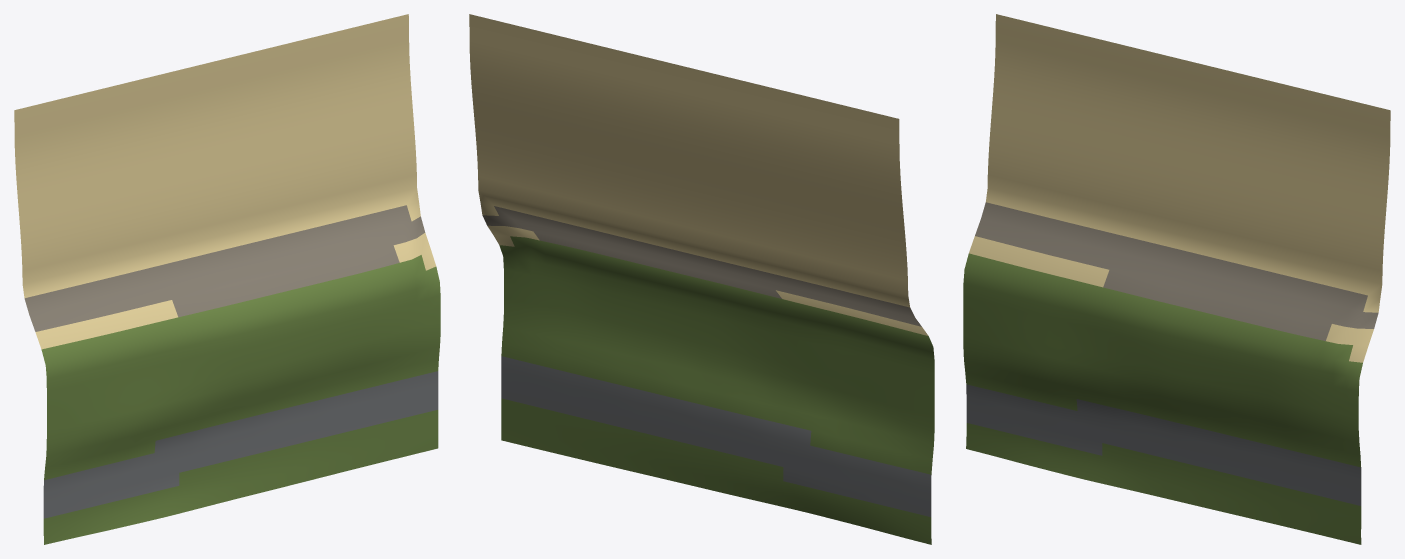
The model's file is island_terrain_23_10.obj.
The picture shows the model from 3 angles, left to right: view 1: azimuth 30°, elevation 25°; view 2: azimuth 150°, elevation 25°; view 3: azimuth 330°, elevation 25°; orthographic projection. The views are drawn at different scales.
Visible parts, largest first — view 1: island_terrain_23_10; view 2: island_terrain_23_10; view 3: island_terrain_23_10.
Part boxes in pixels (box(x1,y1,x2,y2)): island_terrain_23_10: box(14, 14, 440, 544); island_terrain_23_10: box(469, 14, 934, 544); island_terrain_23_10: box(963, 14, 1390, 544).
Bounding box in the file's own units: 256 × 256 × 39.35.
